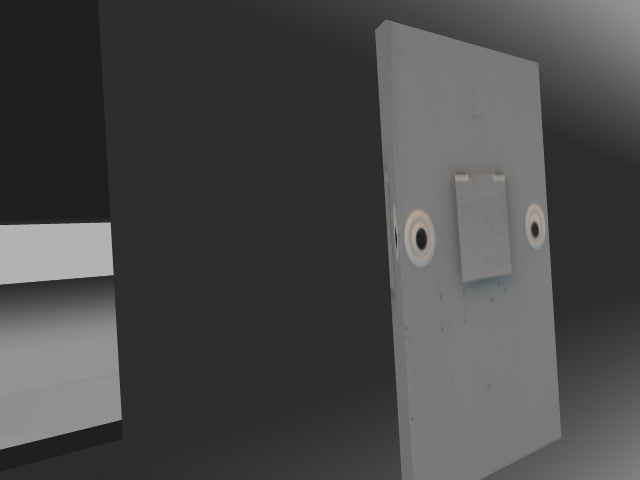facade: (403, 168, 549, 290)
